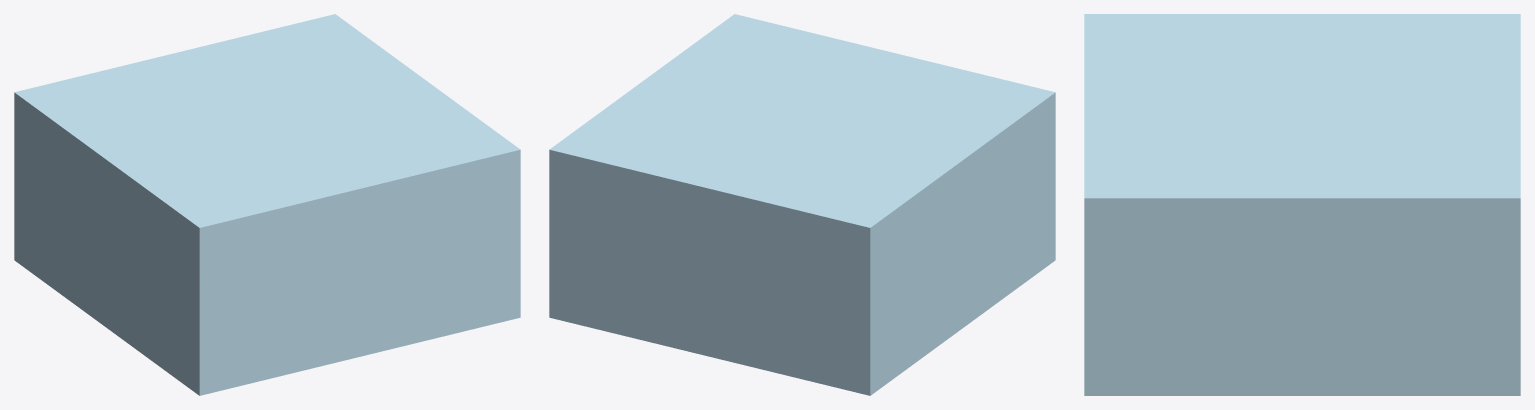
The model's file is Ice_TopHalf.glb.
3 views of the same model, side by side, from view 1: azimuth 30°, elevation 25°; view 2: azimuth 150°, elevation 25°; view 3: azimuth 270°, elevation 25° (orthographic). The views are drawn at different scales.
Parts seen in each view (by area): view 1: Ice_TopHalf_body; view 2: Ice_TopHalf_body; view 3: Ice_TopHalf_body.
Part boxes in pixels (x1,y1,x2,y2): Ice_TopHalf_body: [14, 14, 520, 395]; Ice_TopHalf_body: [549, 14, 1055, 395]; Ice_TopHalf_body: [1084, 14, 1520, 395].
Bounding box in the file's own units: 1 × 0.5 × 1.
Materials: 1 (1 with a texture image).
